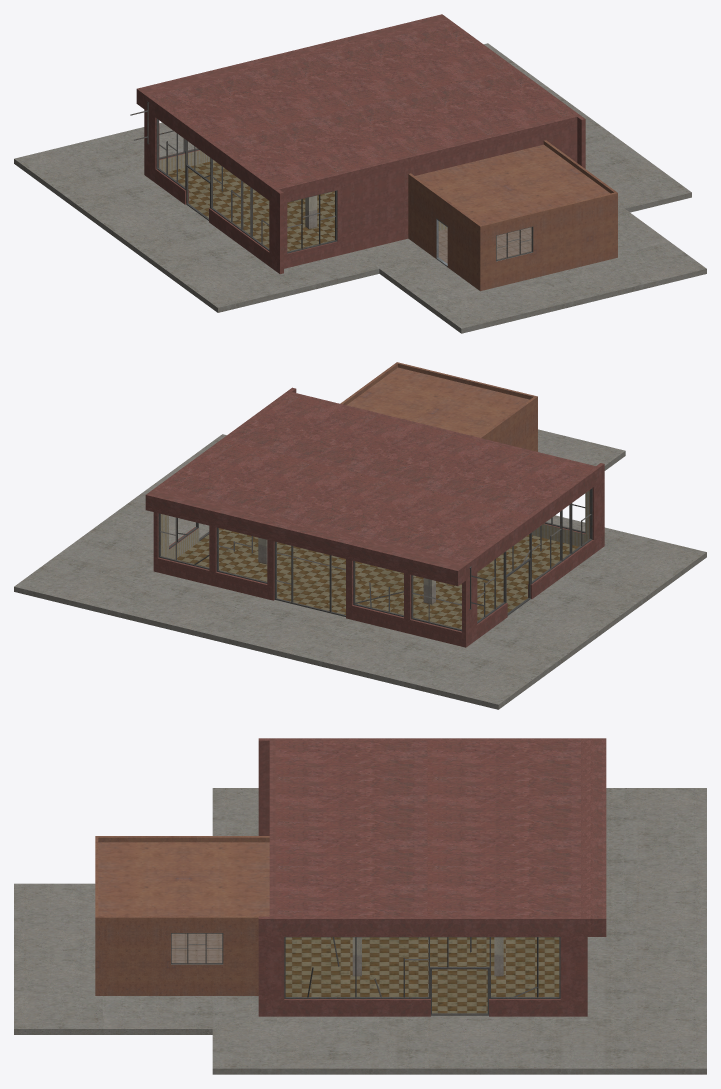
The model's file is Building_Jb01_2048_lod1.glb.
The picture shows the model from 3 angles, top to bottom: view 1: azimuth 30°, elevation 25°; view 2: azimuth 150°, elevation 25°; view 3: azimuth 270°, elevation 25°; orthographic projection. The views are drawn at different scales.
Visible parts, largest first — view 1: xiutz_jb_01_lod1; view 2: xiutz_jb_01_lod1; view 3: xiutz_jb_01_lod1.
Boxes of the visible parts, x1,y1,x2,y2 form: xiutz_jb_01_lod1: (14, 14, 706, 333); xiutz_jb_01_lod1: (14, 362, 706, 709); xiutz_jb_01_lod1: (14, 738, 706, 1074).
Bounding box in the file's own units: 38.07 × 6.58 × 39.77.
1 material, 1 textured.
